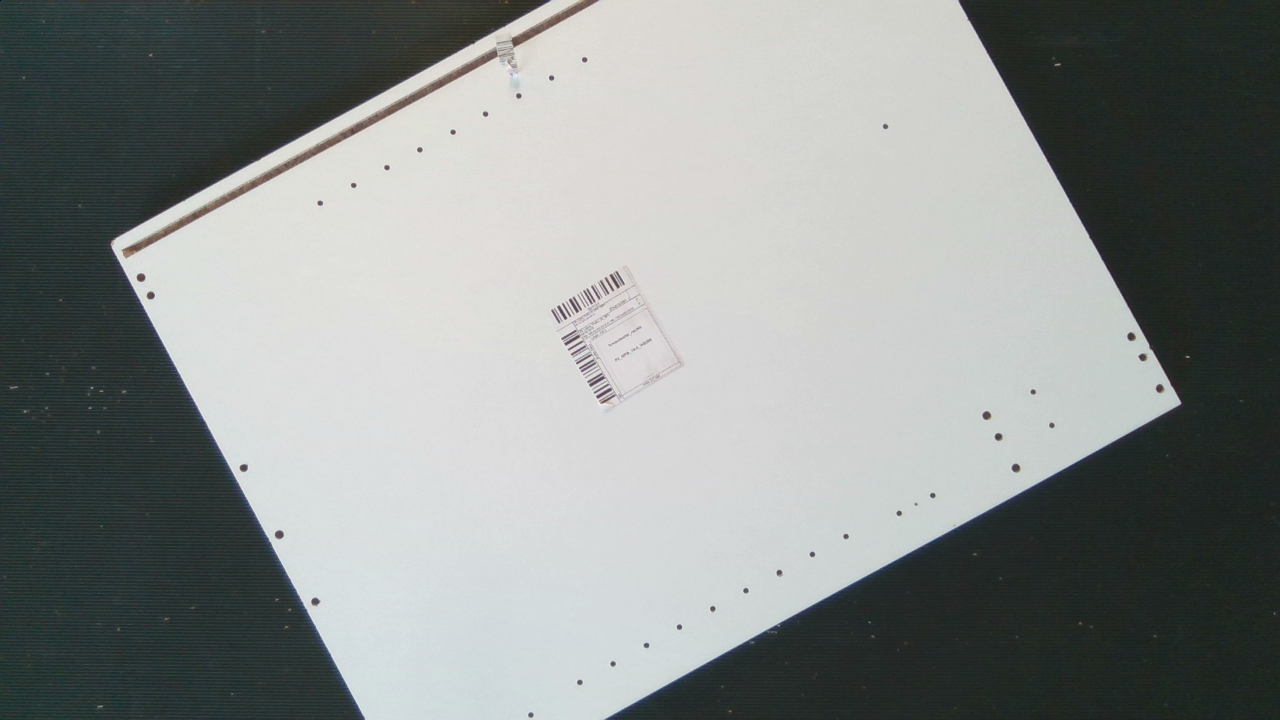barcode: (539, 255, 705, 424)
